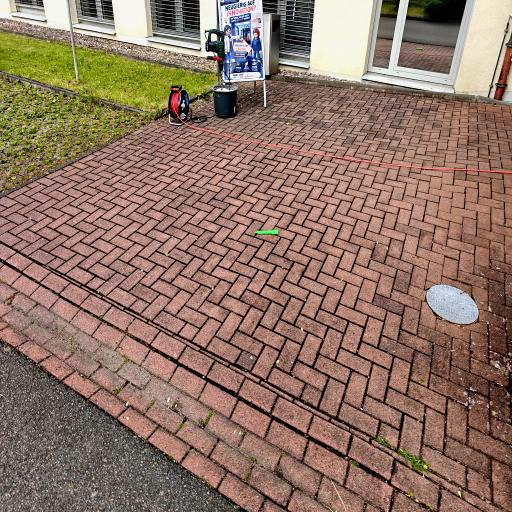Probe-Detection: (255, 229, 278, 235)
